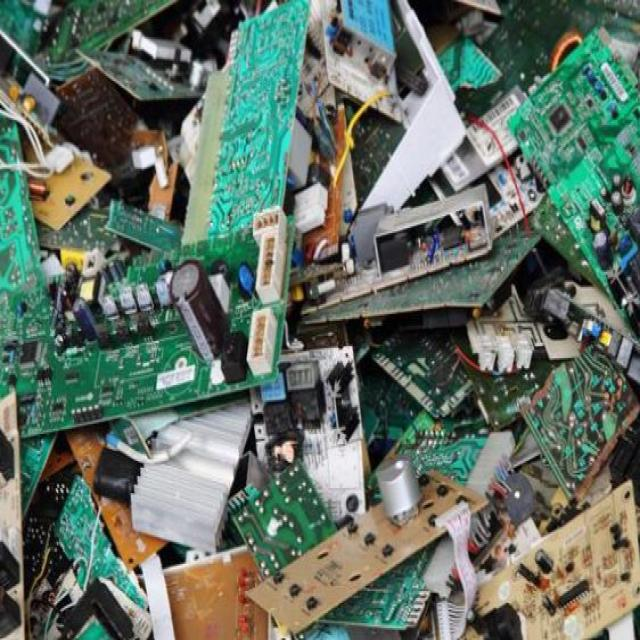electronic: (3, 0, 311, 523), (488, 19, 640, 442)
